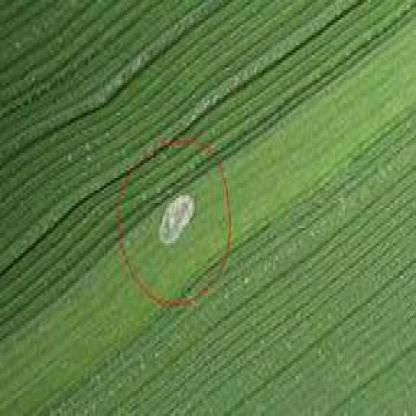leaf-folder: (147, 190, 201, 249)
